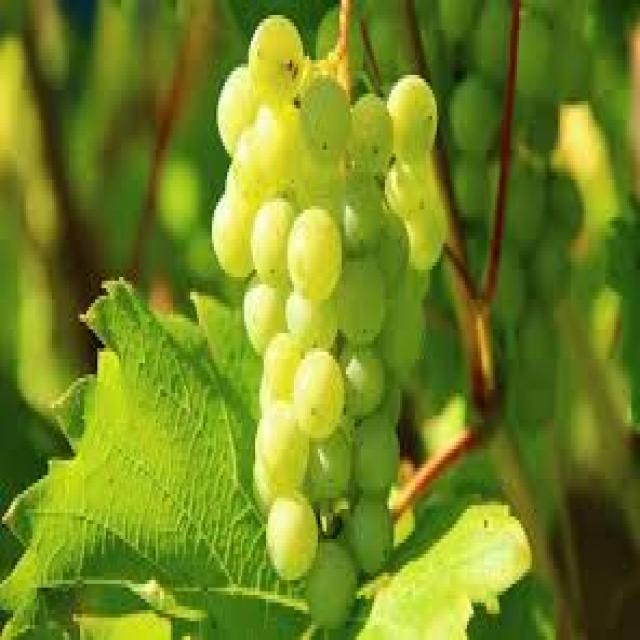grape: (205, 3, 453, 640)
